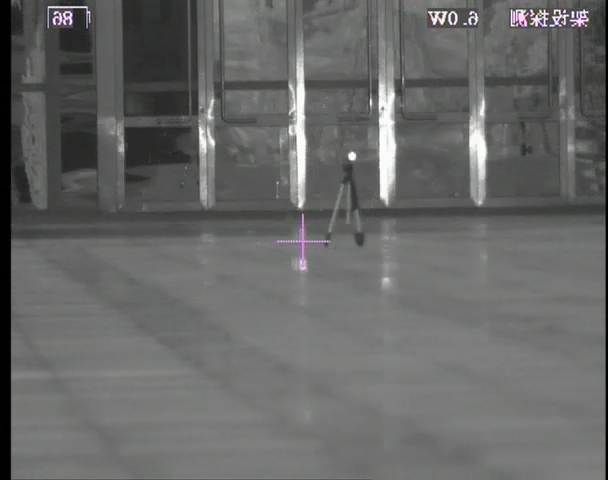my: (347, 151, 357, 162)
